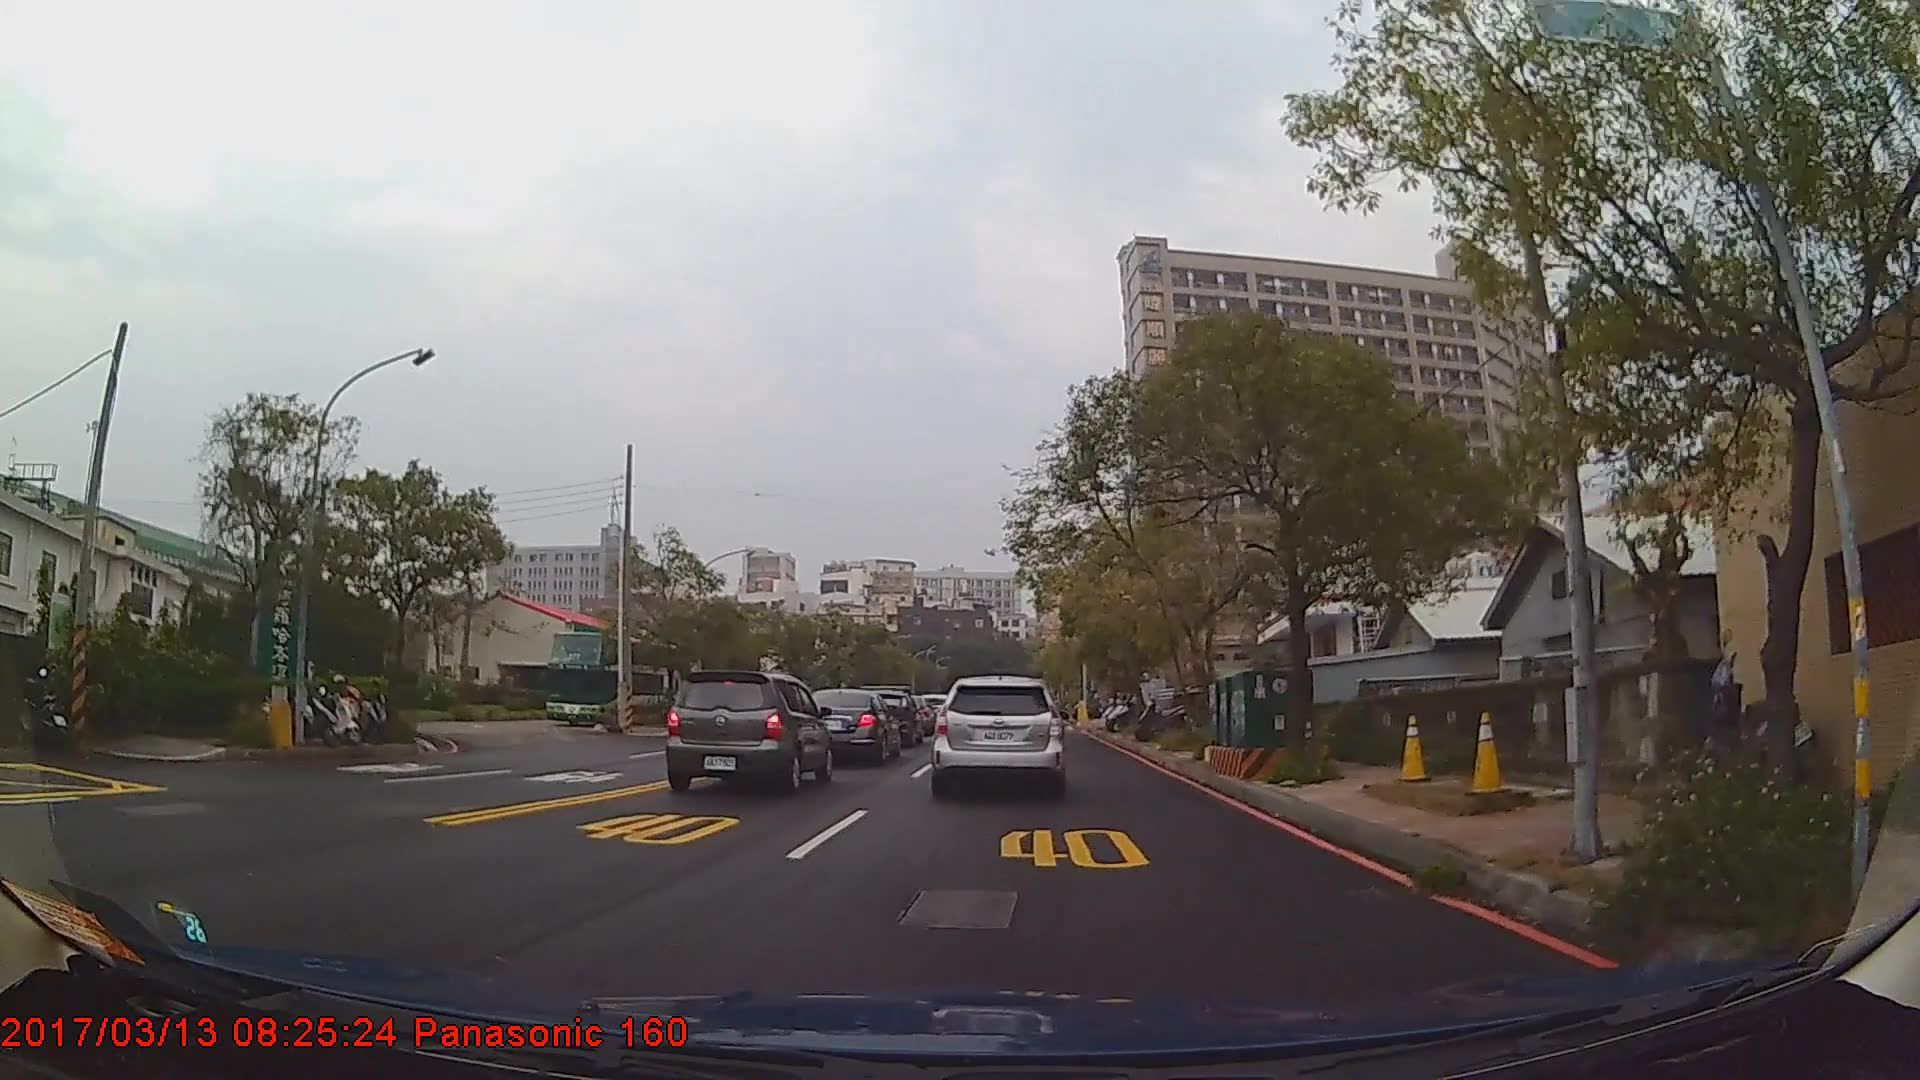vehicle: (661, 670, 828, 794), (930, 674, 1065, 794), (542, 632, 695, 733), (795, 688, 899, 766)
